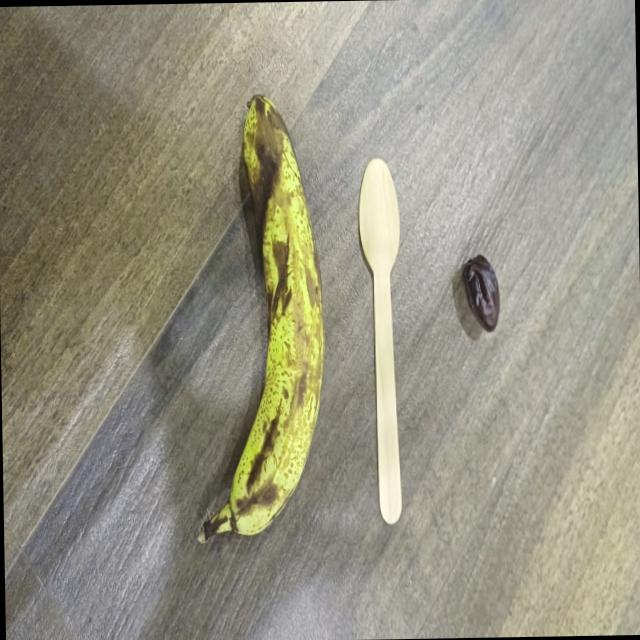Banana-Bio: (197, 90, 335, 542)
Date-Bio: (455, 238, 507, 352)
Wooden Spoon-Bio: (358, 156, 404, 544), (196, 462, 200, 472)
